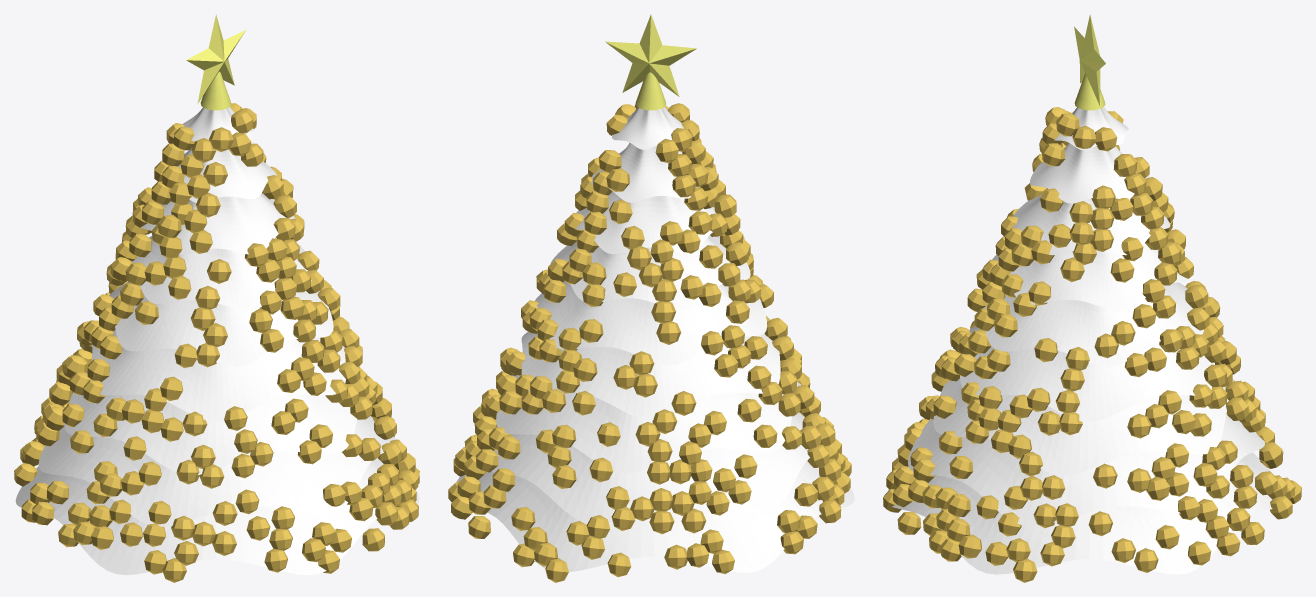
File: tree_300.gltf
The picture shows the model from 3 angles, left to right: view 1: azimuth 30°, elevation 25°; view 2: azimuth 150°, elevation 25°; view 3: azimuth 270°, elevation 25°; orthographic projection.
Parts seen in each view (by area): view 1: Cone 1, Cone 0, Cone 3, Cone 2, Cone 4, Cone 5, Cone 6, Cone 7, Star, Cone 8, cap; view 2: Cone 0, Cone 1, Cone 2, Cone 4, Cone 3, Cone 5, Cone 6, Star, Cone 7, Cone 8, cap; view 3: Cone 0, Cone 1, Cone 2, Cone 3, Cone 4, Cone 5, Cone 7, Cone 6, Star, Cone 8, cap.
Boxes of the visible parts, x1,y1,x2,y2 form: Cone 1: [38, 416, 395, 526]; Cone 0: [15, 457, 419, 575]; Cone 3: [90, 330, 345, 422]; Cone 2: [64, 372, 357, 474]; Cone 4: [109, 281, 333, 366]; Cone 5: [132, 236, 311, 310]; Cone 6: [140, 193, 295, 254]; Cone 7: [178, 148, 276, 202]; Star: [186, 14, 245, 103]; Cone 8: [183, 107, 255, 141]; cap: [200, 71, 231, 110]; Cone 0: [457, 460, 854, 572]; Cone 1: [479, 412, 809, 523]; Cone 2: [496, 375, 801, 473]; Cone 4: [535, 281, 767, 365]; Cone 3: [521, 332, 780, 420]; Cone 5: [550, 235, 750, 309]; Cone 6: [575, 191, 716, 254]; Star: [605, 14, 696, 96]; Cone 7: [591, 143, 697, 202]; Cone 8: [612, 107, 683, 149]; cap: [635, 72, 666, 110]; Cone 0: [887, 452, 1272, 574]; Cone 1: [908, 414, 1264, 526]; Cone 2: [933, 378, 1233, 475]; Cone 3: [960, 326, 1214, 422]; Cone 4: [983, 282, 1203, 367]; Cone 5: [992, 243, 1187, 311]; Cone 7: [1030, 143, 1149, 203]; Cone 6: [1012, 194, 1170, 255]; Star: [1074, 14, 1105, 105]; Cone 8: [1054, 107, 1128, 150]; cap: [1074, 73, 1105, 110].
Size of what is drawn, in the model's own units: 1.9 by 2.59 by 2.
